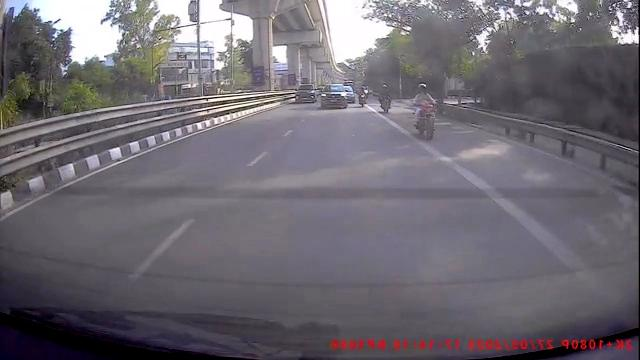motorcycle_with_helmet: (411, 82, 438, 142)
